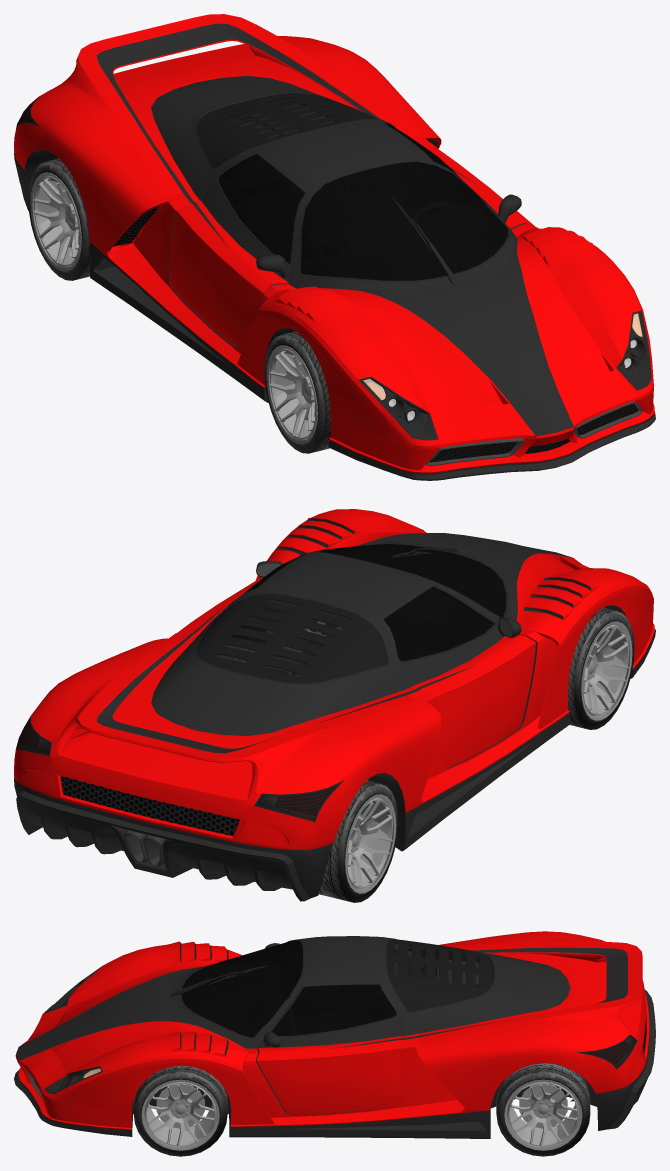
3 renders of one model, top to bottom at view 1: azimuth 30°, elevation 25°; view 2: azimuth 150°, elevation 25°; view 3: azimuth 270°, elevation 25°, orthographic. The views are drawn at different scales.
Visible parts, largest first — view 1: Body, Door Right, Wheel FR, Wheel RR, Door Left; view 2: Body, Door Right, Wheel RR, Wheel FR, Door Left; view 3: Body, Door Left, Wheel RL, Wheel FL.
Part boxes in pixels (x1,y1,x2,y2): Body: (14, 14, 655, 480); Door Right: (169, 153, 306, 346); Wheel FR: (264, 331, 330, 453); Wheel RR: (28, 158, 90, 280); Door Left: (382, 122, 534, 229); Body: (14, 509, 655, 901); Door Right: (383, 585, 535, 768); Wheel RR: (319, 780, 398, 902); Wheel FR: (568, 607, 634, 729); Door Left: (177, 555, 304, 634); Body: (14, 931, 655, 1138); Door Left: (256, 983, 401, 1115); Wheel RL: (496, 1063, 590, 1156); Wheel FL: (133, 1065, 227, 1156).
Bounding box in the file's own units: 244 × 137 × 552.
Materials: 25 (6 with a texture image).
